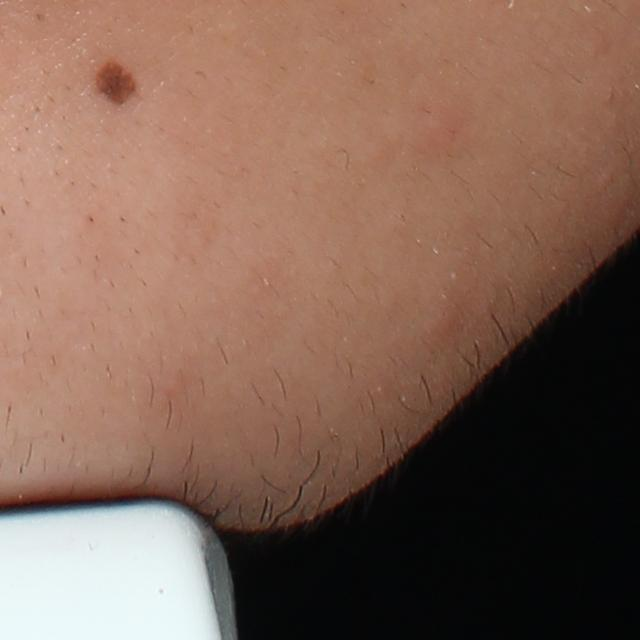nevus: (93, 57, 140, 107)
